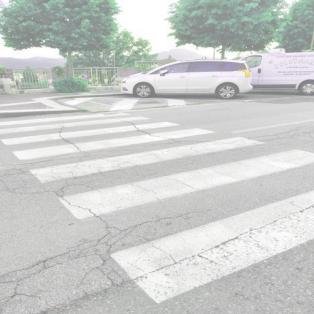Paso de Cebra: (0, 126, 267, 186)
